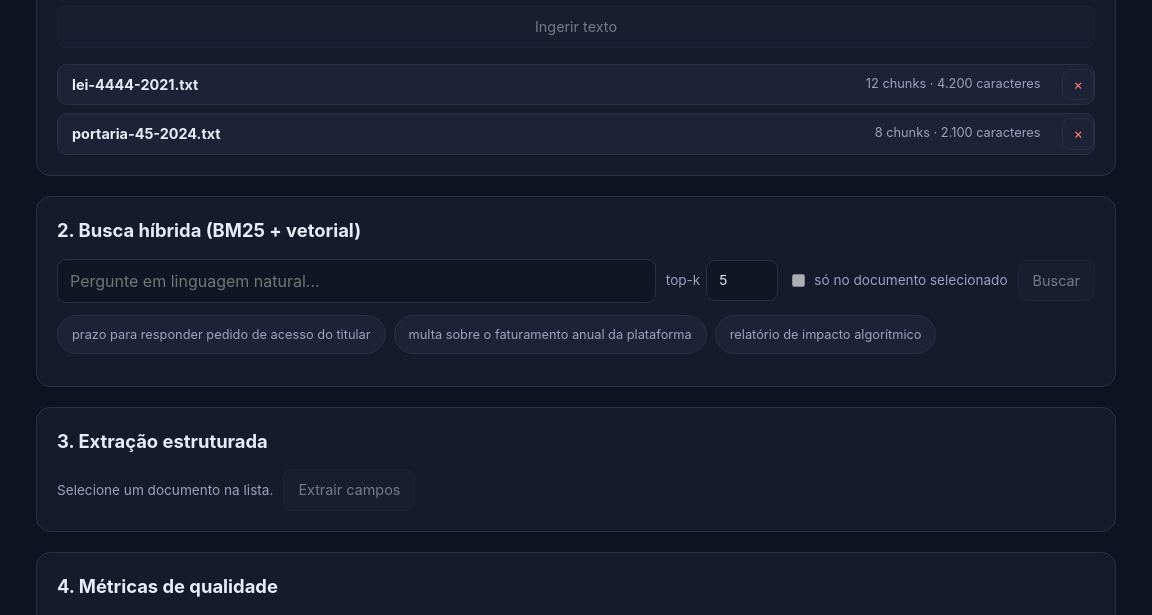
App › busca e exibe trechos com artigo e scores
The image size is (1152, 615).
(page scrolled)
Type "prazo de acesso" into the search field named "Consulta".
click(356, 281); type("prazo de acesso")  # box x1=57 y1=259 x2=656 y2=303
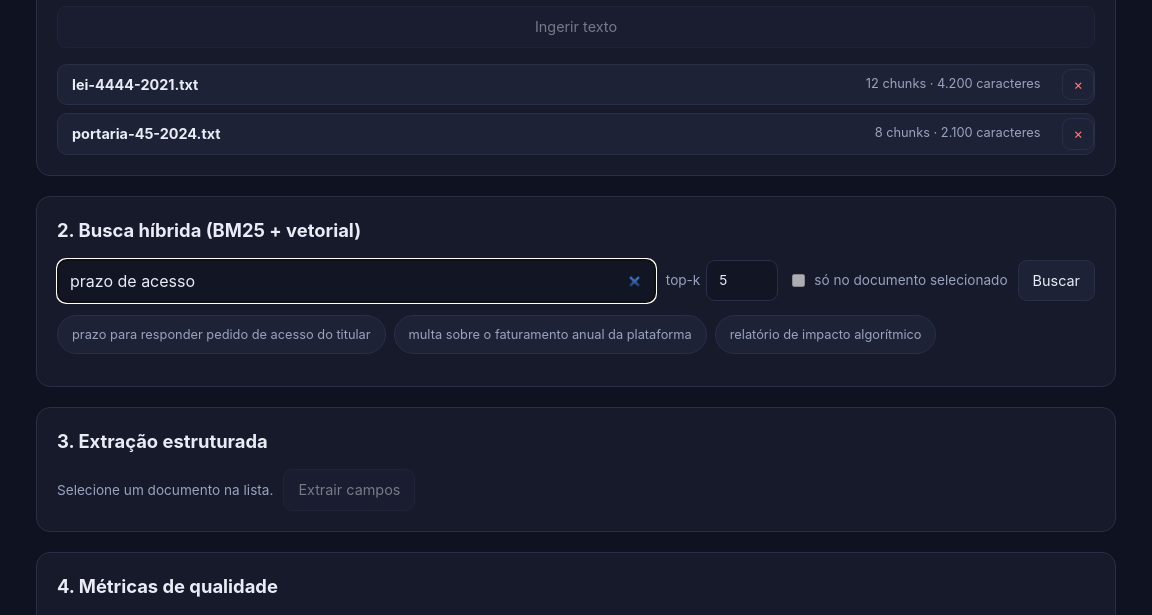
Click the button "Buscar".
click(1056, 281)  # box x1=1018 y1=260 x2=1095 y2=301
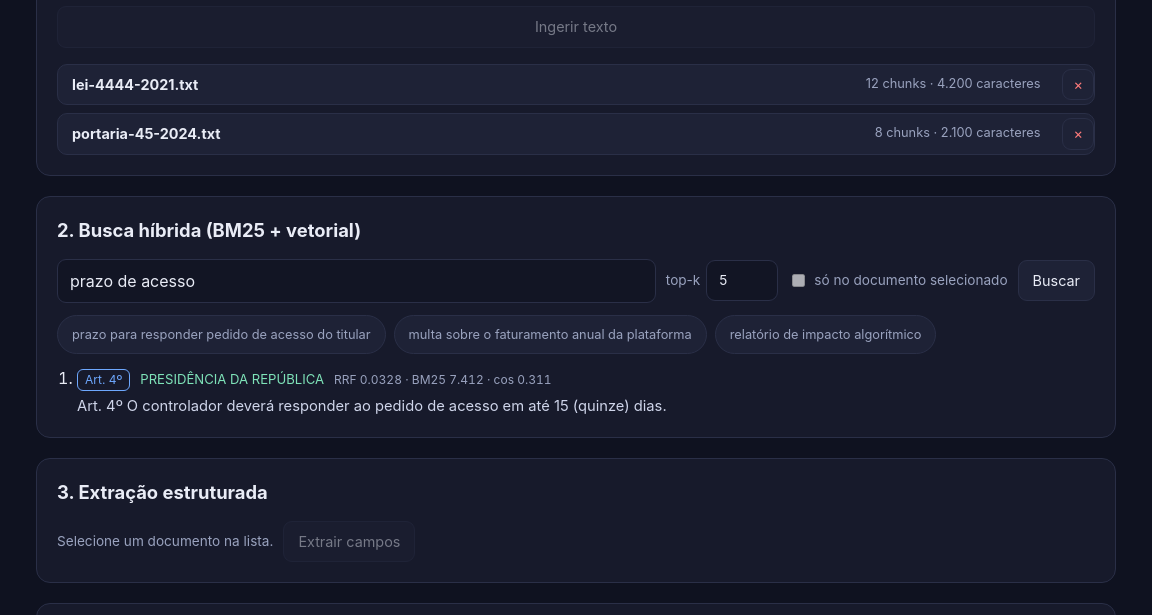
Check: the text "O controlador deverá responder" is shown, box x1=77 y1=397 x2=667 y2=415
Check: the text "Art. 4º" is shown, box x1=77 y1=369 x2=130 y2=391
Check: the text "RRF 0.0328 · BM25 7.412 · cos 0.311" is shown, box x1=334 y1=371 x2=552 y2=389
